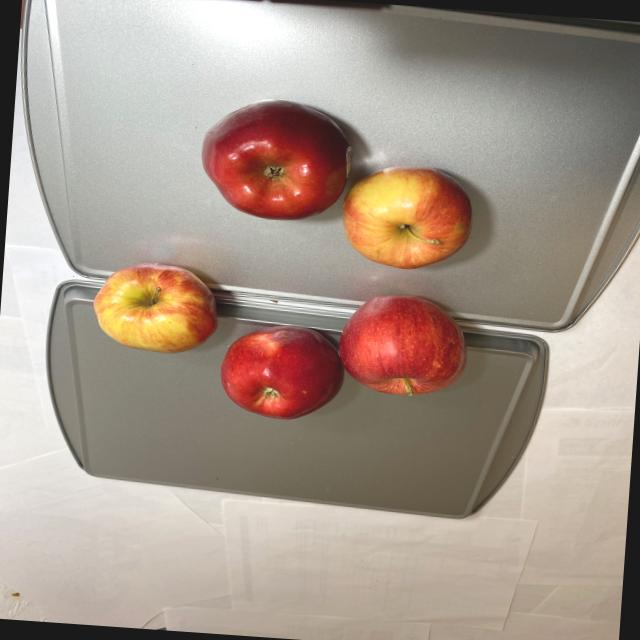apple: (86, 259, 476, 434), (188, 96, 484, 272)
